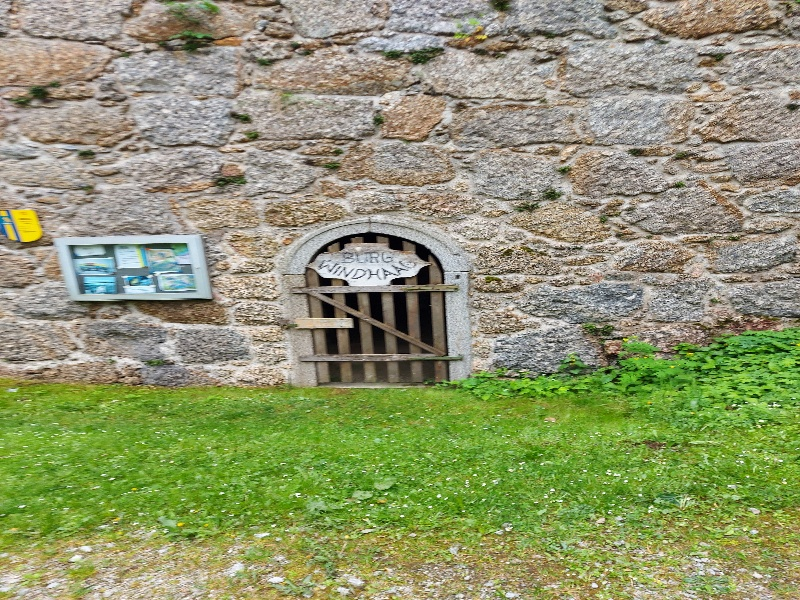dungeon: (265, 202, 478, 393)
